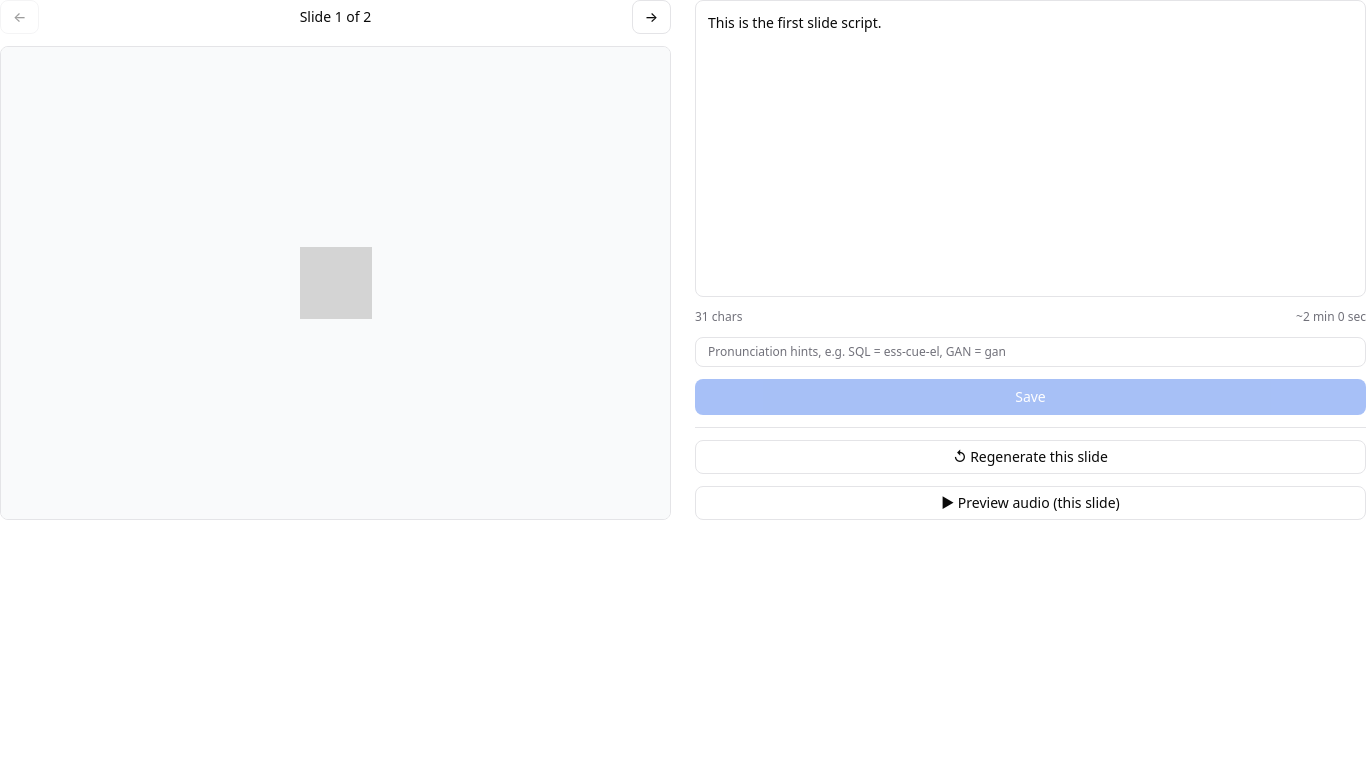
Test: SlideEditor › switching slides with unsaved changes shows confirmation dialog
Note: Edit the textarea to create unsaved changes
Type " edited" into the text box showing "This is the first slide script.".
click(1030, 148); type(" edited")  # box [695,0,1365,297]
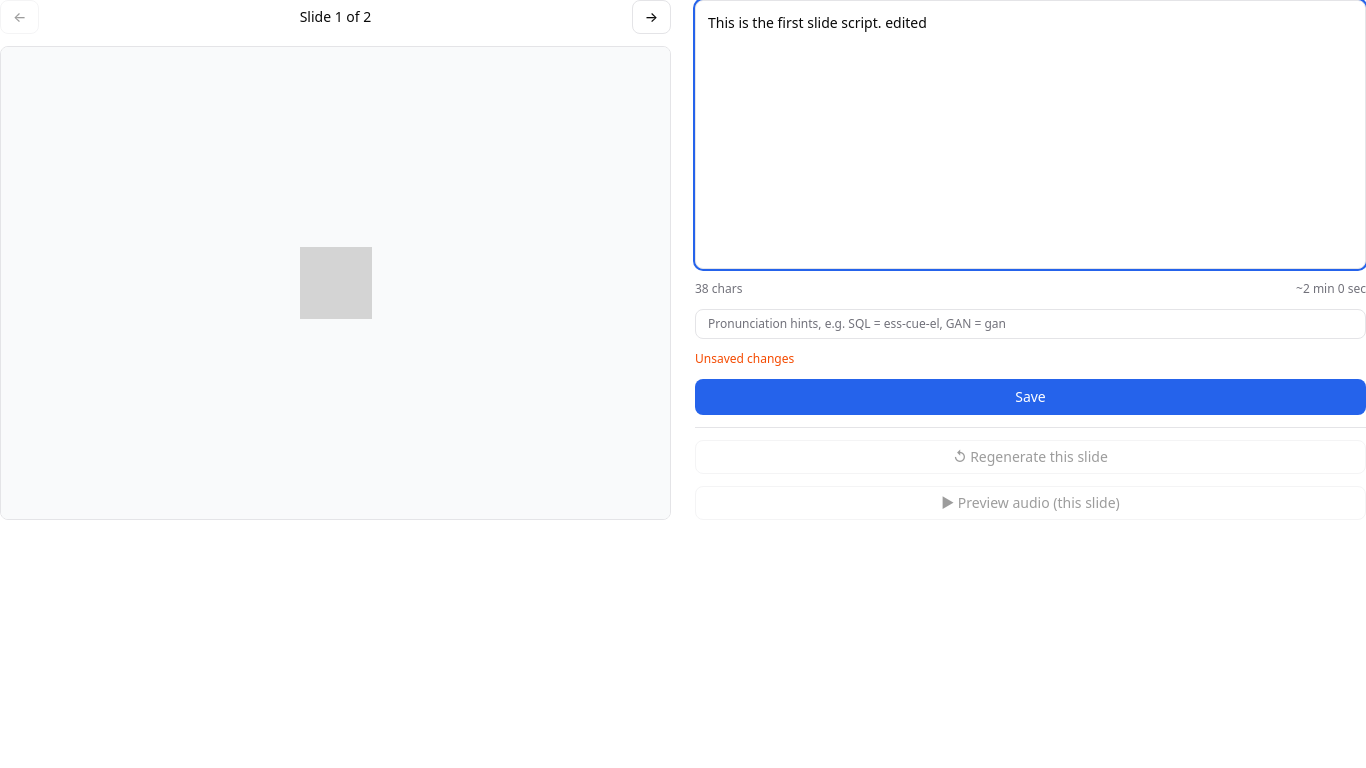
Note: Click Next → should trigger dialog, NOT navigate
Click the button named "Next slide".
click(651, 17)  # box [632,0,671,34]
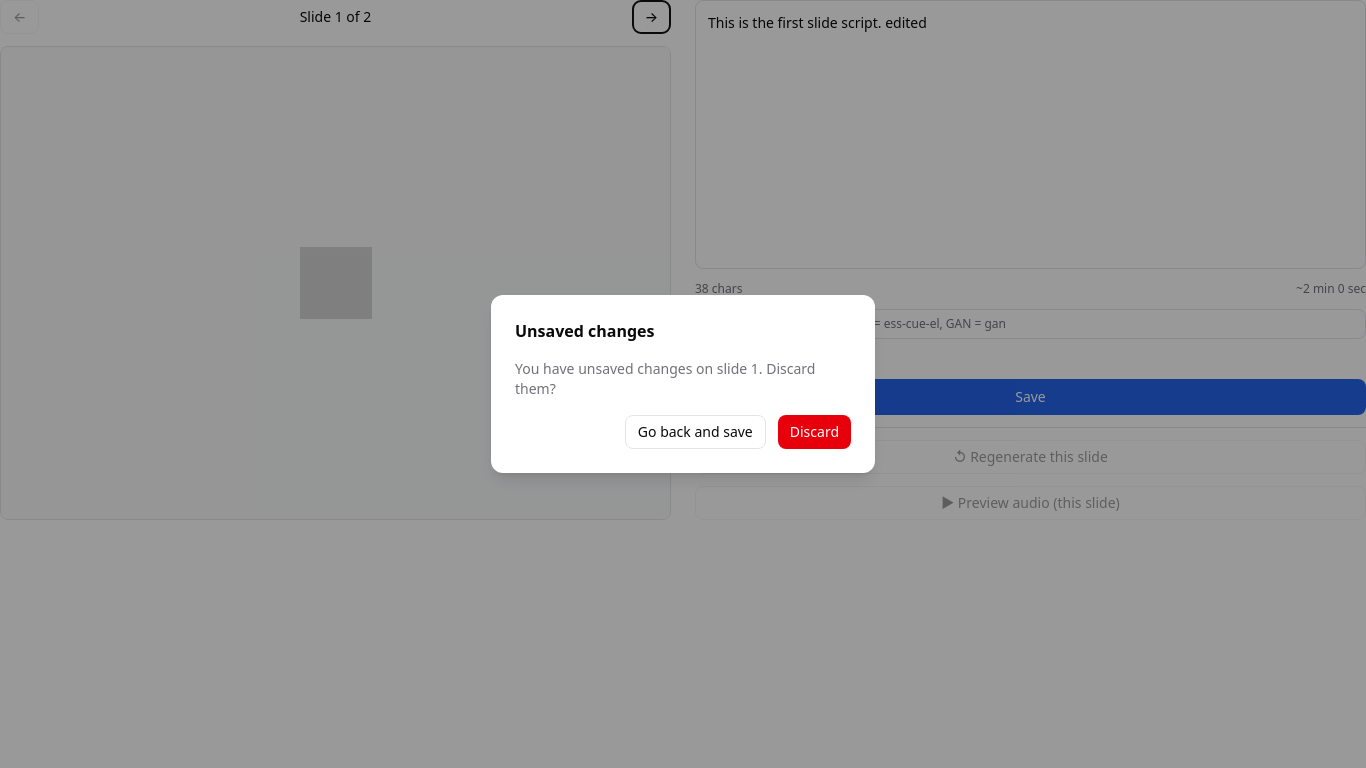
Expected: the dialog is shown
Expected: the text "You have unsaved changes on slide 1. Discard them?" is shown, [515,359,851,399]
Expected: the button "Discard" is shown, [778,415,851,449]
